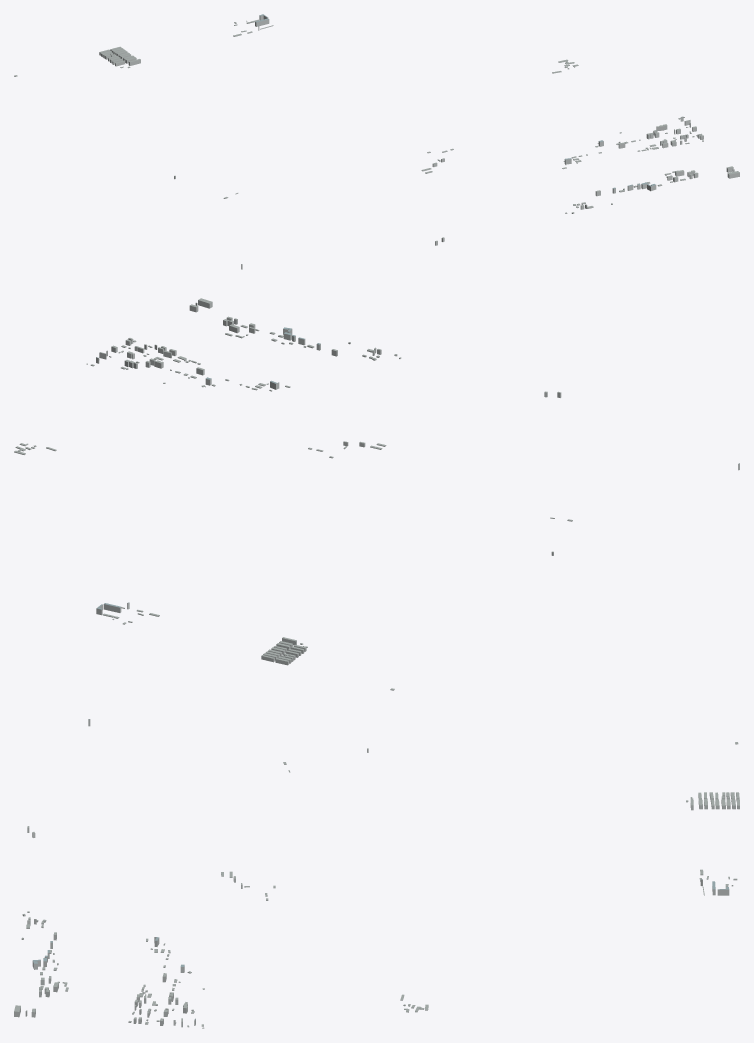
Rendered from far.glb.
3 views of the same model, one above another, from view 1: azimuth 30°, elevation 25°; view 2: azimuth 150°, elevation 25°; view 3: azimuth 270°, elevation 25° (orthographic). The views are drawn at different scales.
Size of the model in its own units: 2062 by 21.5 by 2089.
